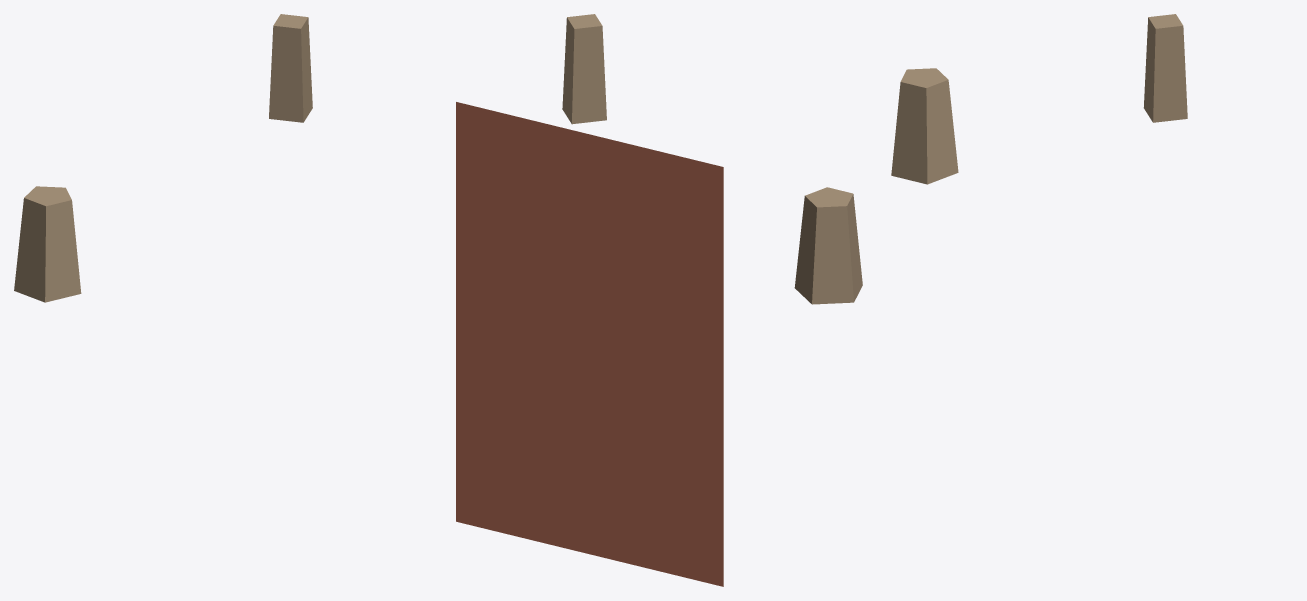
Rendered from banner_sign.glb.
The picture shows the model from 3 angles, left to right: view 1: azimuth 30°, elevation 25°; view 2: azimuth 150°, elevation 25°; view 3: azimuth 330°, elevation 25°; orthographic projection.
Parts seen in each view (by area): view 1: lod0; view 2: lod0; view 3: lod0.
Part boxes in pixels (x1=…): lod0: x1=14, y1=14, x2=312, y2=302; lod0: x1=456, y1=14, x2=862, y2=586; lod0: x1=891, y1=14, x2=1187, y2=184.
Size of what is drawn, in the model's own units: 0.9166 by 1.15 by 0.1266.
